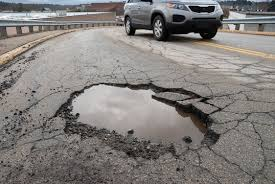potholes: (66, 79, 228, 157)
